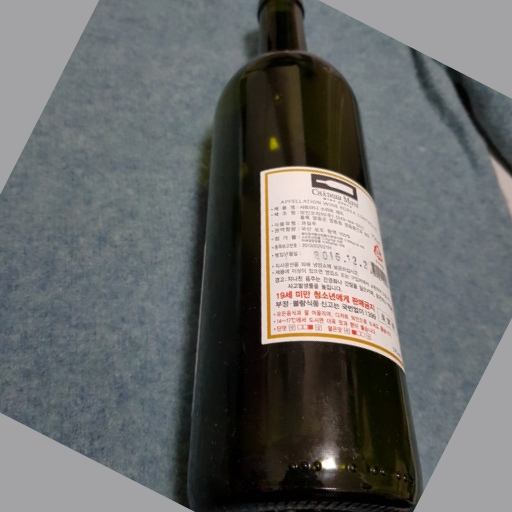Glass_2: (185, 2, 426, 512)
